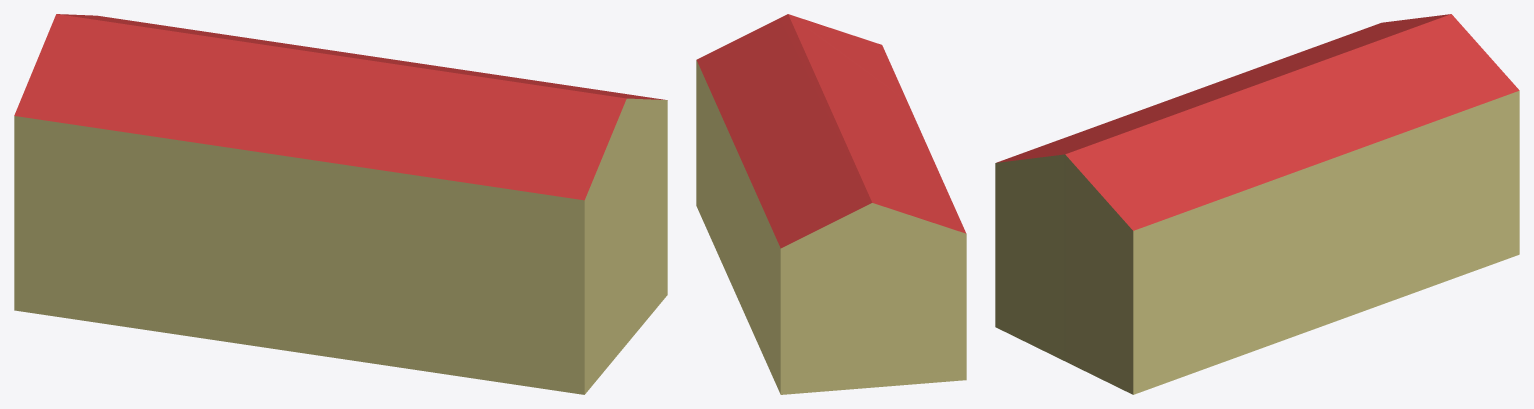
The picture shows the model from 3 angles, left to right: view 1: azimuth 30°, elevation 25°; view 2: azimuth 150°, elevation 25°; view 3: azimuth 270°, elevation 25°; orthographic projection. The views are drawn at different scales.
Parts seen in each view (by area): view 1: group_4, group_3; view 2: group_4, group_3; view 3: group_4, group_3.
Boxes of the visible parts, x1,y1,x2,y2 form: group_4: (14, 98, 667, 394); group_3: (14, 14, 667, 200); group_4: (696, 60, 966, 394); group_3: (696, 14, 966, 248); group_4: (995, 90, 1519, 394); group_3: (996, 14, 1519, 230).
Bounding box in the file's own units: 13.7 × 14.59 × 6.35.
